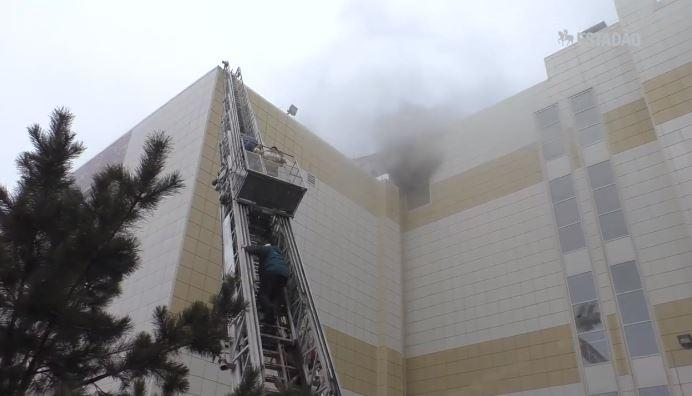smoke: (377, 94, 449, 166)
